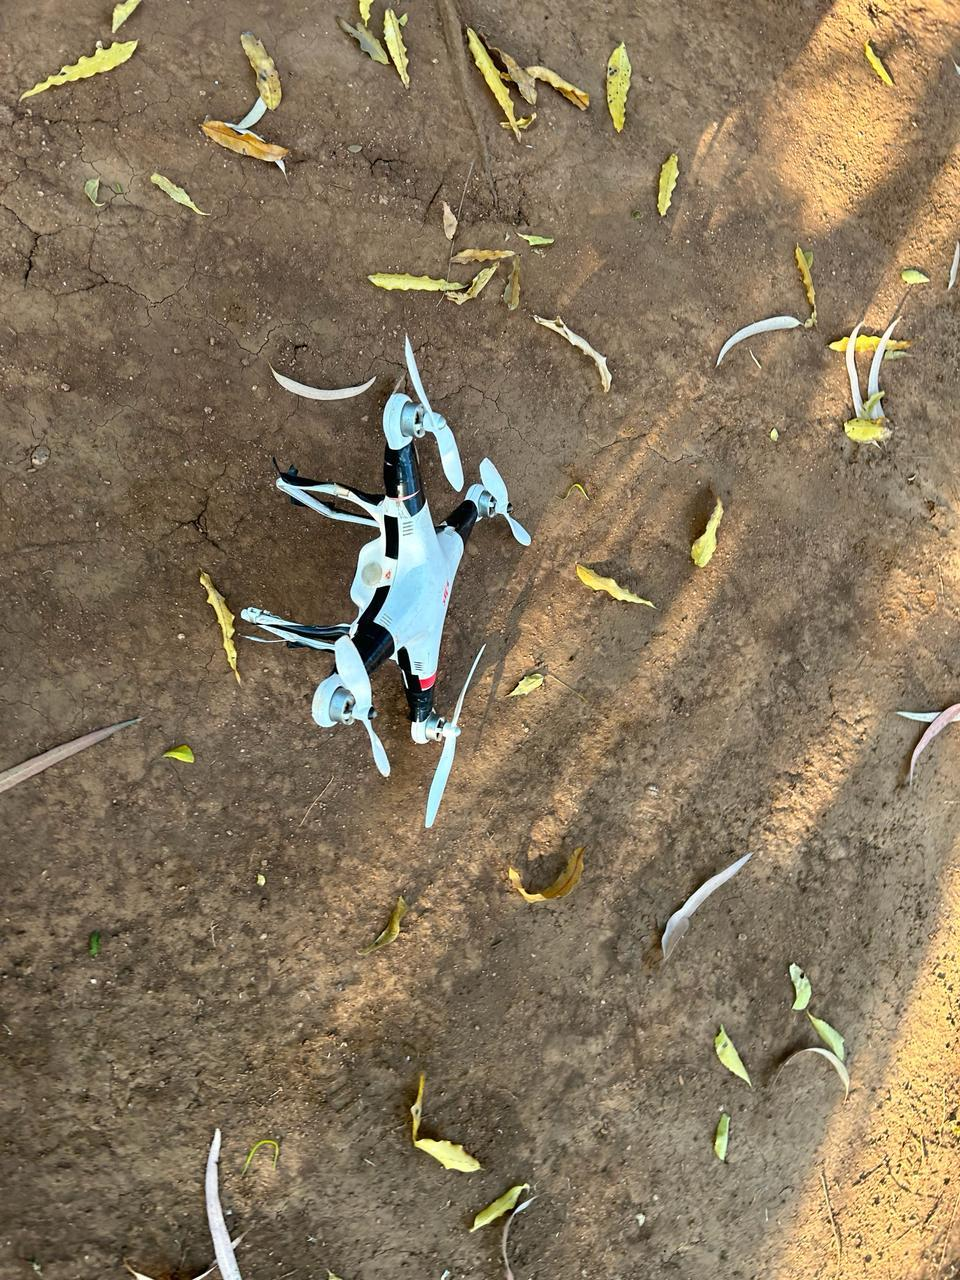drone: (154, 364, 592, 789)
